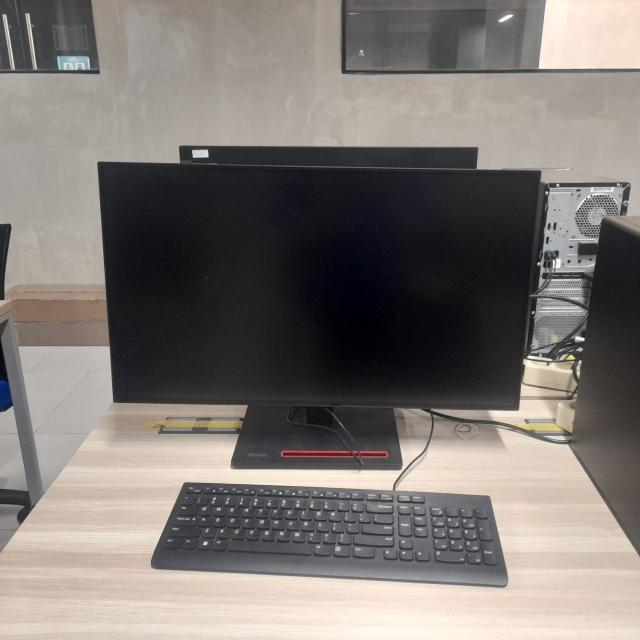keyboard: (151, 482, 509, 588)
monitor: (97, 161, 542, 471), (178, 146, 478, 170)
pc: (501, 168, 632, 358), (570, 215, 640, 557)
